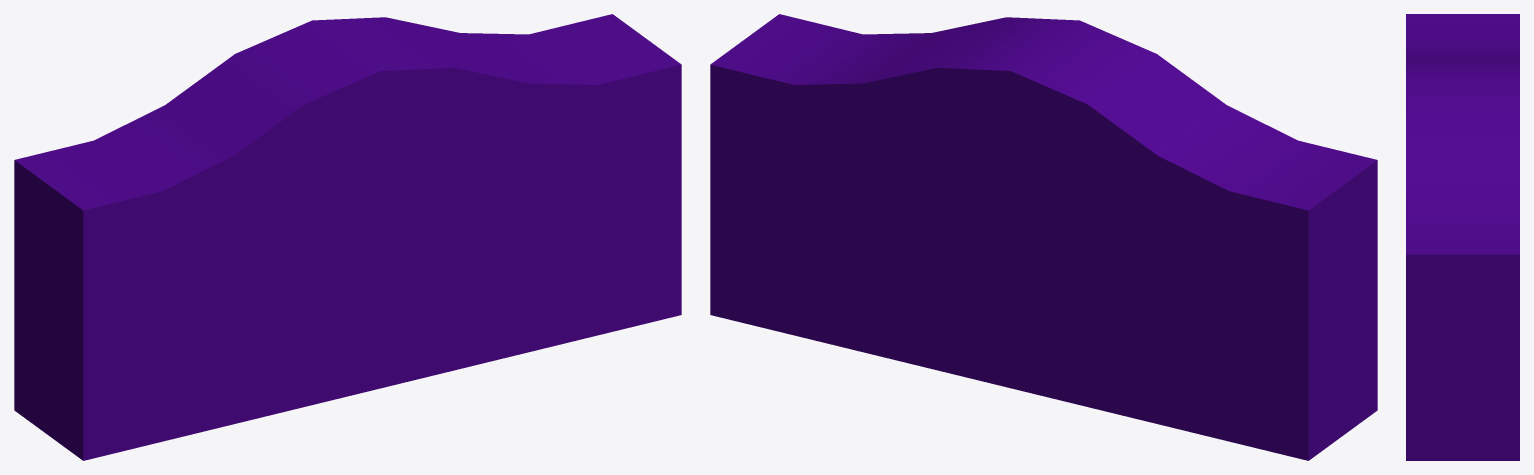
3 renders of one model, left to right at view 1: azimuth 30°, elevation 25°; view 2: azimuth 150°, elevation 25°; view 3: azimuth 270°, elevation 25°, orthographic. The views are drawn at different scales.
Parts seen in each view (by area): view 1: pCube17; view 2: pCube17; view 3: pCube17.
Boxes of the visible parts, left/top/right/bottom form: pCube17: left=14, top=14, right=681, bottom=460; pCube17: left=710, top=14, right=1377, bottom=460; pCube17: left=1406, top=14, right=1519, bottom=460.
Bounding box in the file's own units: 25 × 12.67 × 5.
